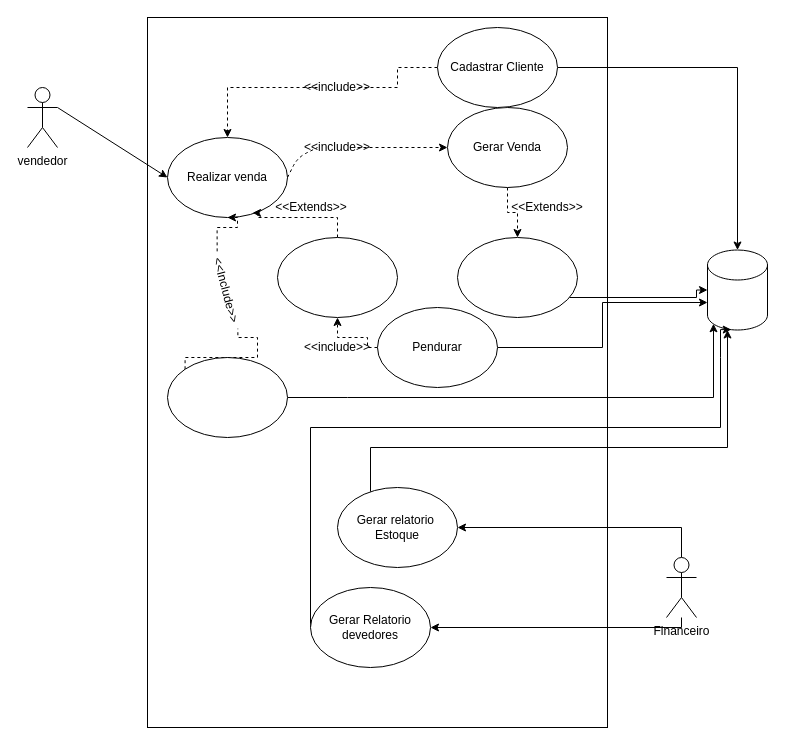
The diagram is 785 pixels wide and 745 high, and some of its shapes have lost their labels. Each missing label, with the centre of its shape:
"bd" belongs at (737,289).
"Consultar se há cadastro" belongs at (227,397).
"dar baixa no estoque" belongs at (517,277).
"Metodo de pagamento" belongs at (337,277).
